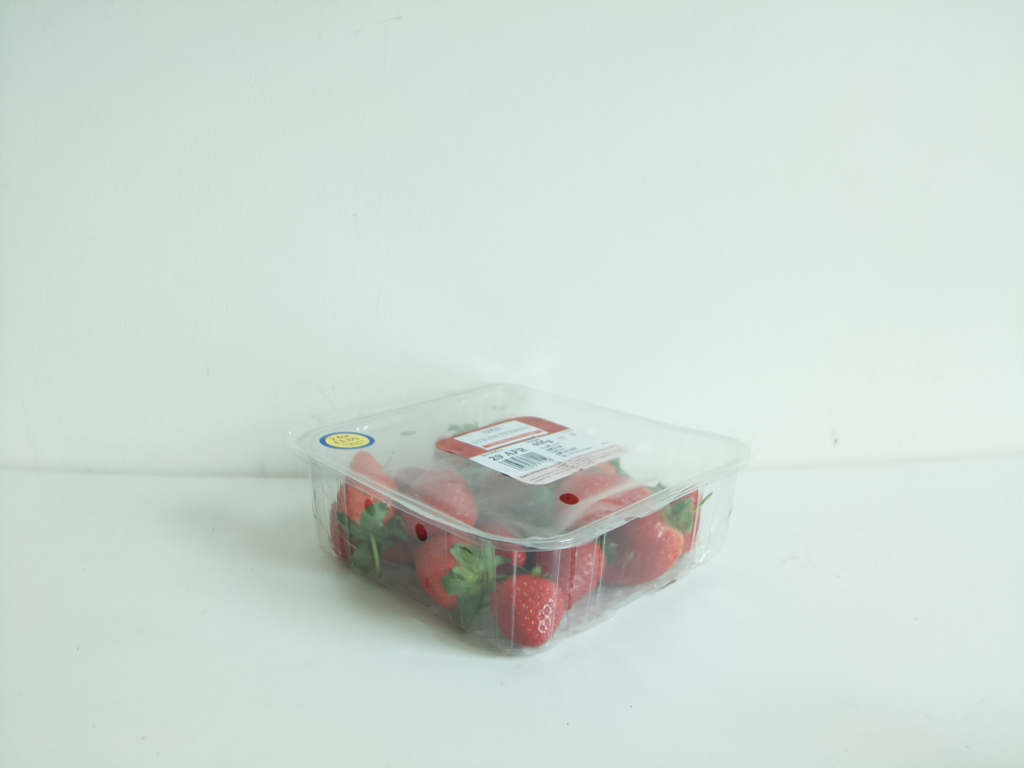soft-fruit: (284, 380, 752, 661)
